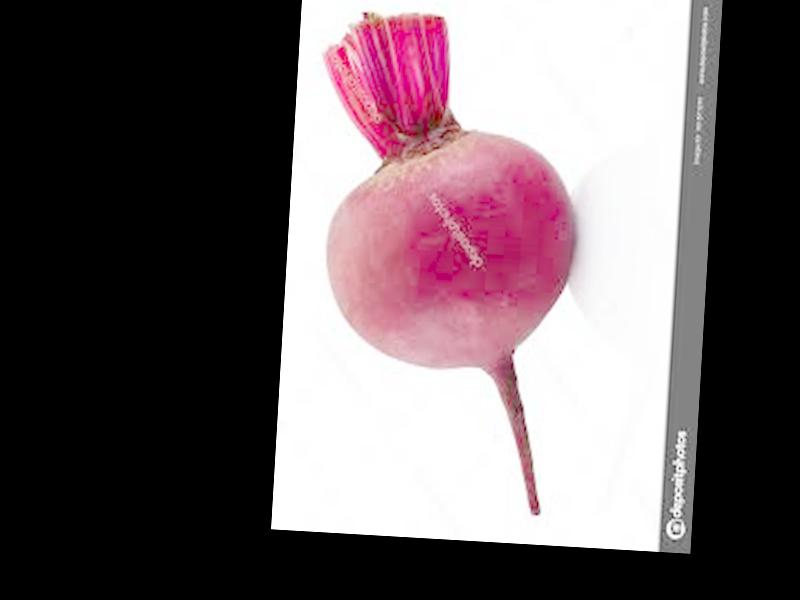Beet: (300, 7, 588, 516)
